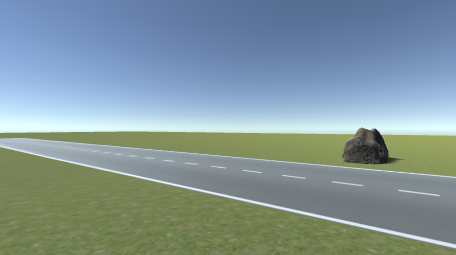rock: (342, 127, 389, 164)
